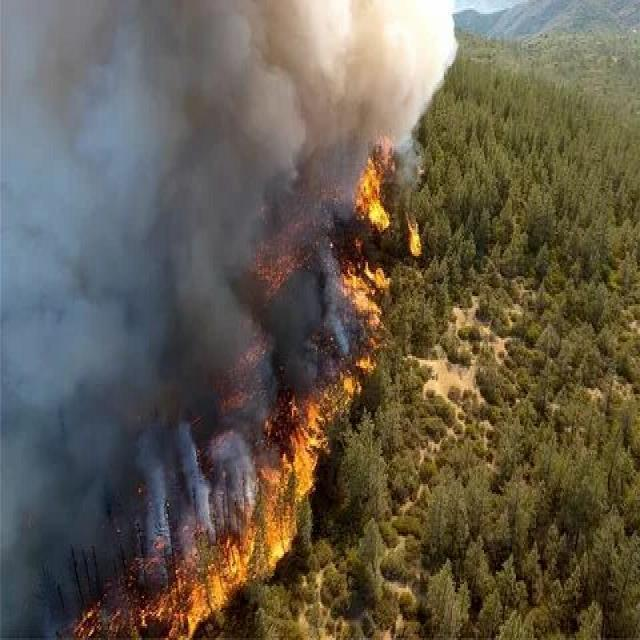Fire: (276, 108, 438, 512), (64, 480, 380, 640)
Smoke: (0, 0, 290, 458)
